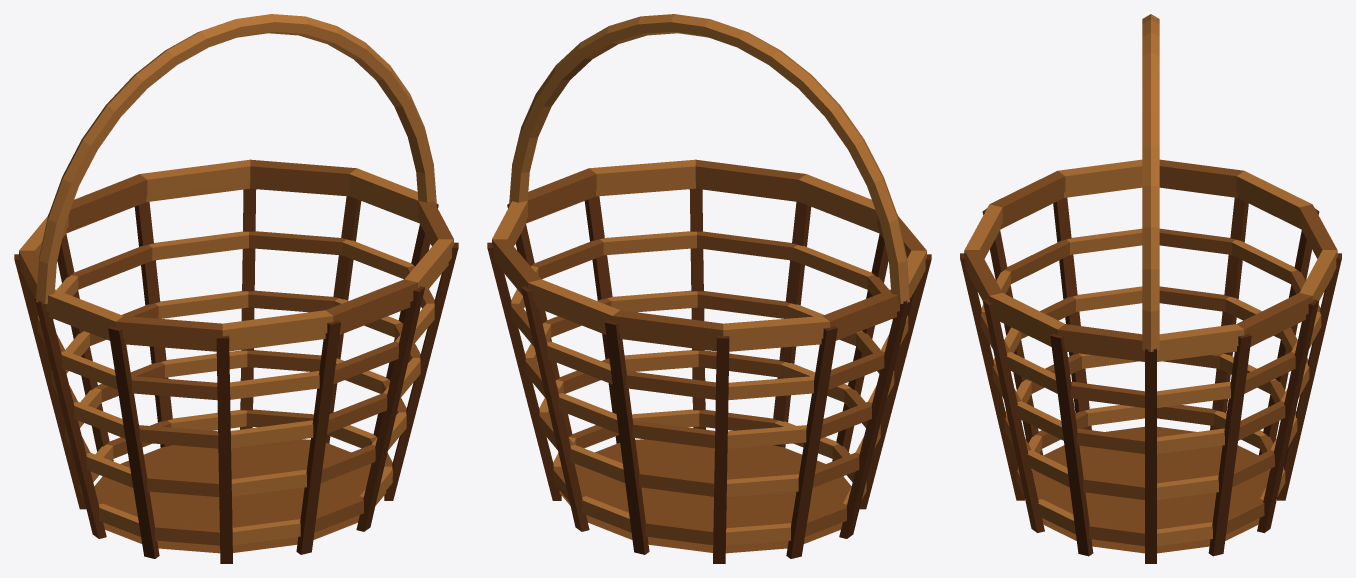
File: canasta.obj
The picture shows the model from 3 angles, left to right: view 1: azimuth 30°, elevation 25°; view 2: azimuth 150°, elevation 25°; view 3: azimuth 270°, elevation 25°; orthographic projection. The views are drawn at different scales.
Parts seen in each view (by area): view 1: Canasta; view 2: Canasta; view 3: Canasta.
Part boxes in pixels (x1=…): Canasta: x1=14, y1=14, x2=458, y2=563; Canasta: x1=487, y1=14, x2=931, y2=563; Canasta: x1=960, y1=14, x2=1341, y2=563.
Bounding box in the file's own units: 1.03 × 1.18 × 0.88.
